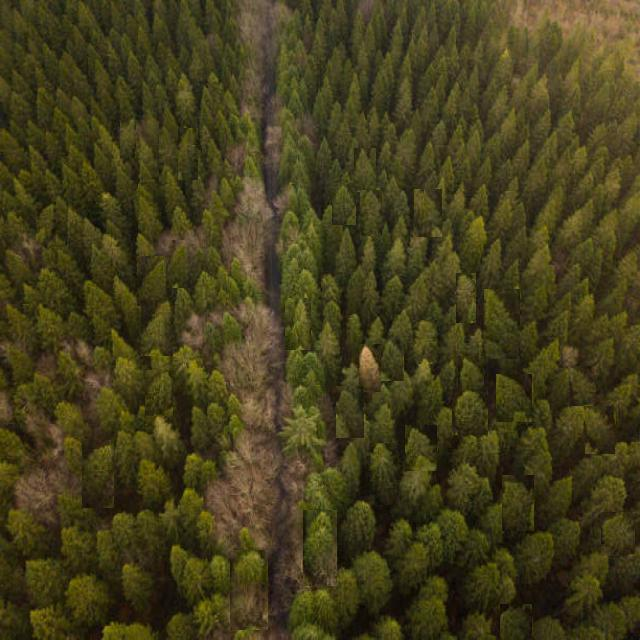tree: (230, 550, 268, 630), (350, 548, 392, 618), (64, 572, 108, 636), (303, 510, 337, 586), (484, 289, 520, 359), (466, 559, 510, 615), (516, 526, 554, 588), (339, 498, 378, 558), (408, 582, 448, 640), (82, 440, 114, 508), (398, 456, 434, 516), (444, 462, 486, 510), (92, 384, 128, 440), (519, 427, 553, 485), (90, 232, 126, 284), (122, 558, 154, 616), (141, 300, 173, 356), (502, 475, 534, 531), (80, 276, 112, 332), (137, 458, 171, 510), (553, 401, 583, 459), (370, 443, 398, 505), (496, 374, 532, 422), (438, 510, 466, 570), (396, 538, 426, 594), (452, 389, 488, 435), (567, 570, 603, 614), (528, 341, 564, 385), (137, 256, 167, 306), (601, 512, 635, 556), (135, 185, 161, 242), (405, 425, 437, 471), (336, 386, 364, 438), (585, 406, 615, 454), (462, 215, 486, 273), (160, 167, 186, 219), (285, 298, 311, 350), (552, 518, 580, 566), (339, 442, 363, 498), (414, 189, 442, 237), (52, 401, 84, 442), (316, 323, 340, 377), (145, 370, 173, 416), (114, 355, 142, 401), (482, 236, 502, 300), (546, 472, 572, 520), (37, 302, 63, 350), (418, 376, 444, 424), (39, 266, 69, 306), (482, 499, 506, 548), (6, 345, 34, 387), (370, 403, 394, 452), (500, 604, 532, 640), (166, 240, 190, 288), (404, 272, 428, 320), (440, 320, 464, 368), (98, 191, 124, 233), (458, 611, 495, 640), (359, 344, 381, 392), (413, 320, 437, 364), (458, 356, 484, 396), (178, 128, 198, 180), (172, 284, 192, 336), (570, 366, 596, 406), (360, 190, 382, 236), (192, 270, 215, 314), (332, 183, 356, 225), (380, 339, 404, 381), (456, 273, 476, 323), (336, 228, 356, 278), (354, 148, 376, 192), (390, 308, 412, 352), (8, 250, 32, 290), (138, 139, 158, 185), (384, 239, 404, 281), (491, 198, 513, 236), (188, 172, 206, 218), (36, 202, 56, 242), (115, 162, 133, 202), (120, 116, 136, 158), (126, 50, 142, 86)
